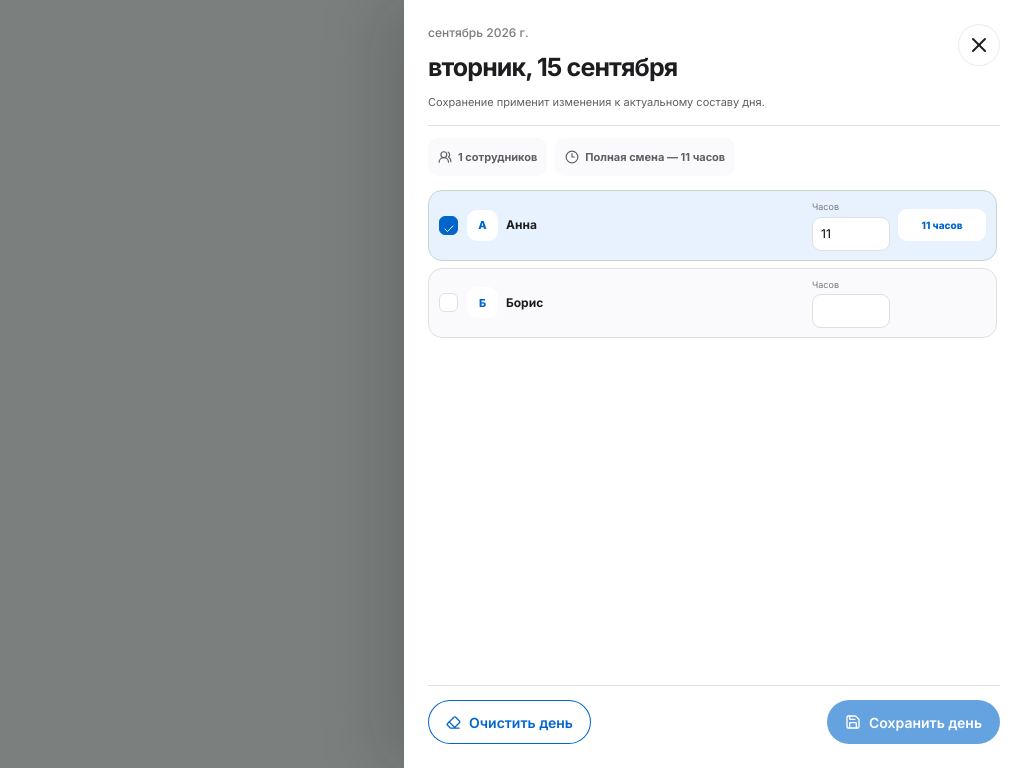
Scenario: shift editor shared ownership › does not retry a non-conflict server error
Replace the text in the 1st field labelled "Часов" with "8" at (851, 234), box x1=812 y1=216 x2=890 y2=250
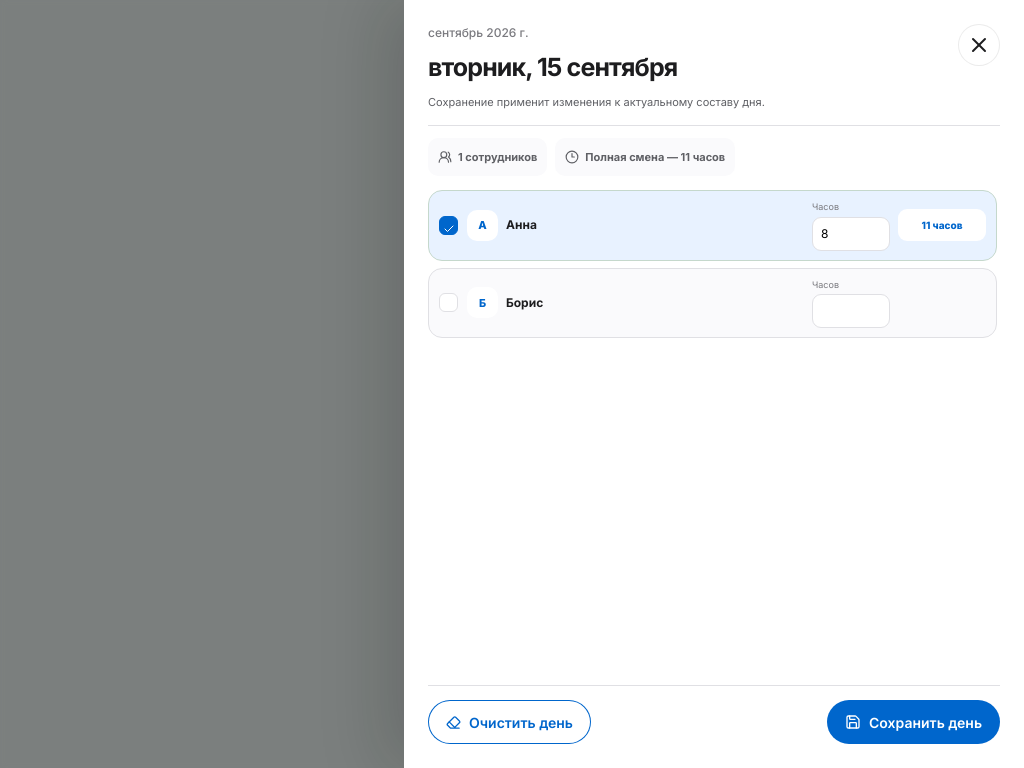
Click the button "Сохранить день" at (914, 722), box x1=827 y1=700 x2=1000 y2=744
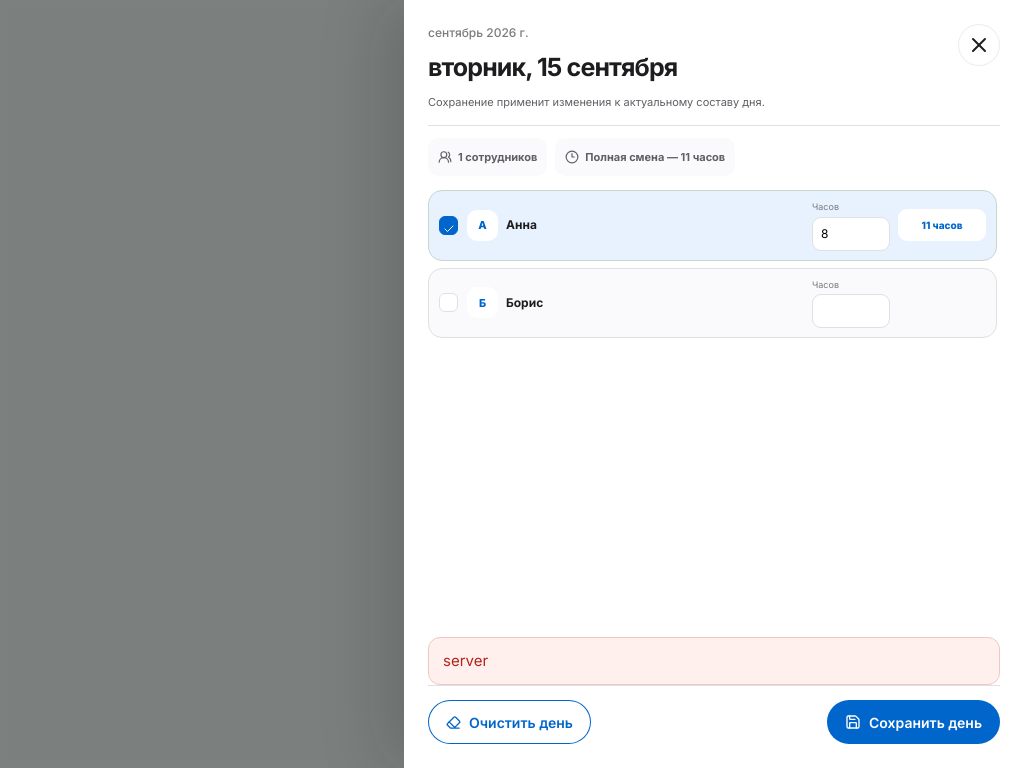
Check: the message reads "server", box x1=443 y1=651 x2=488 y2=670
